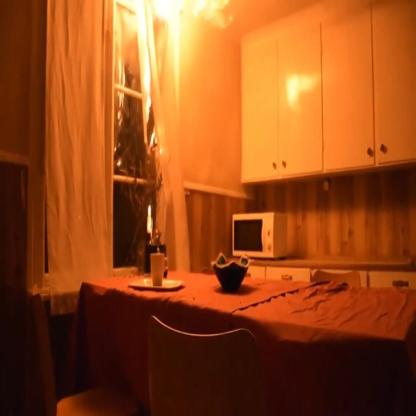fire: (130, 0, 241, 86), (148, 203, 152, 217)
